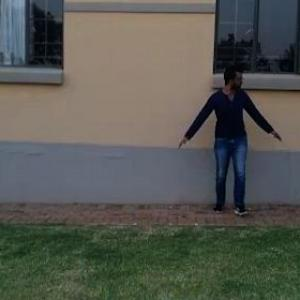land: (172, 58, 274, 229)
